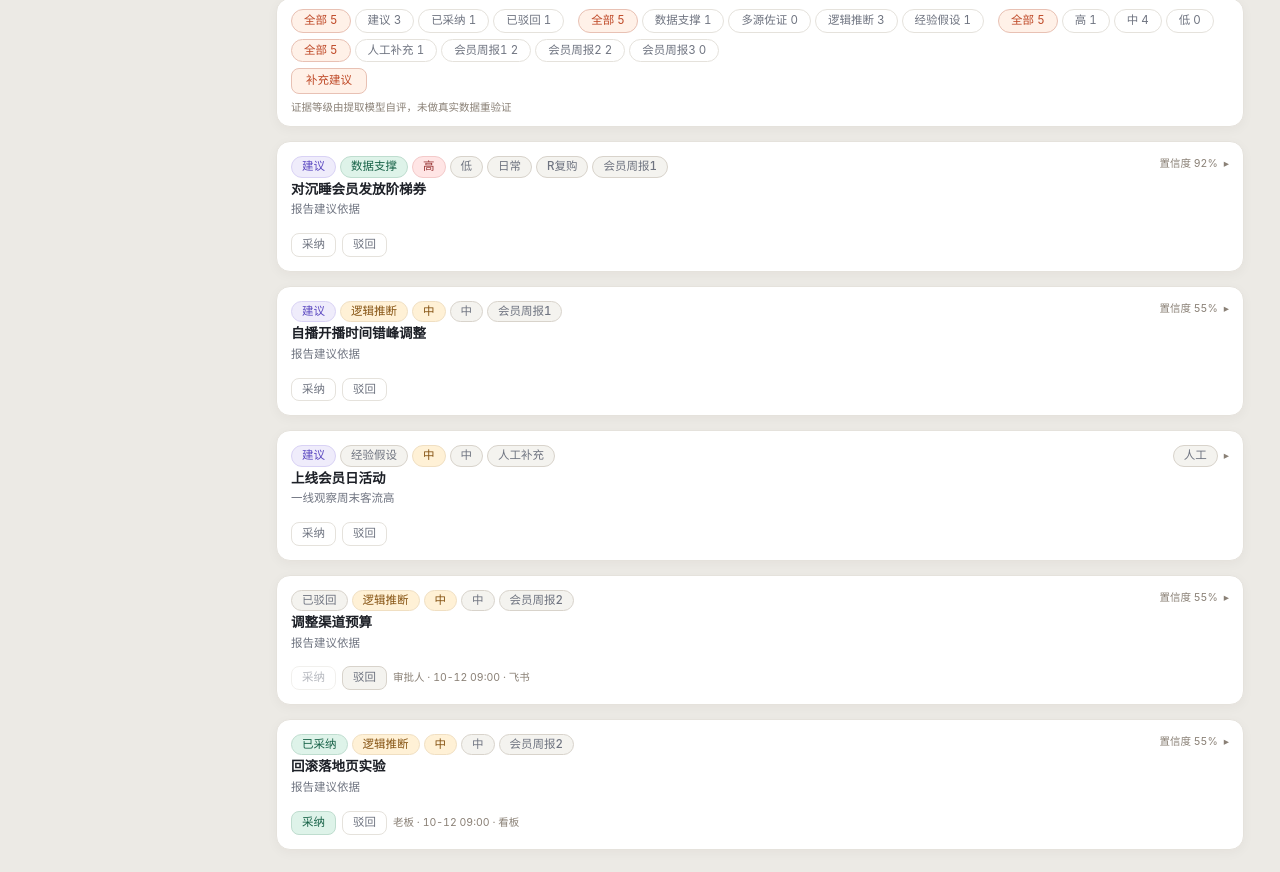
Test: 反馈互斥：已回录任务直接呈现只读块（未执行 · 评分），无提交表单
(page scrolled)
Click the button "已采纳 逻辑推断 中 中 会员周报2 回滚落地页实验 报告建议依据 置信度 55% ▸".
click(319, 745)  # box [277,720,1243,811]
(page scrolled)
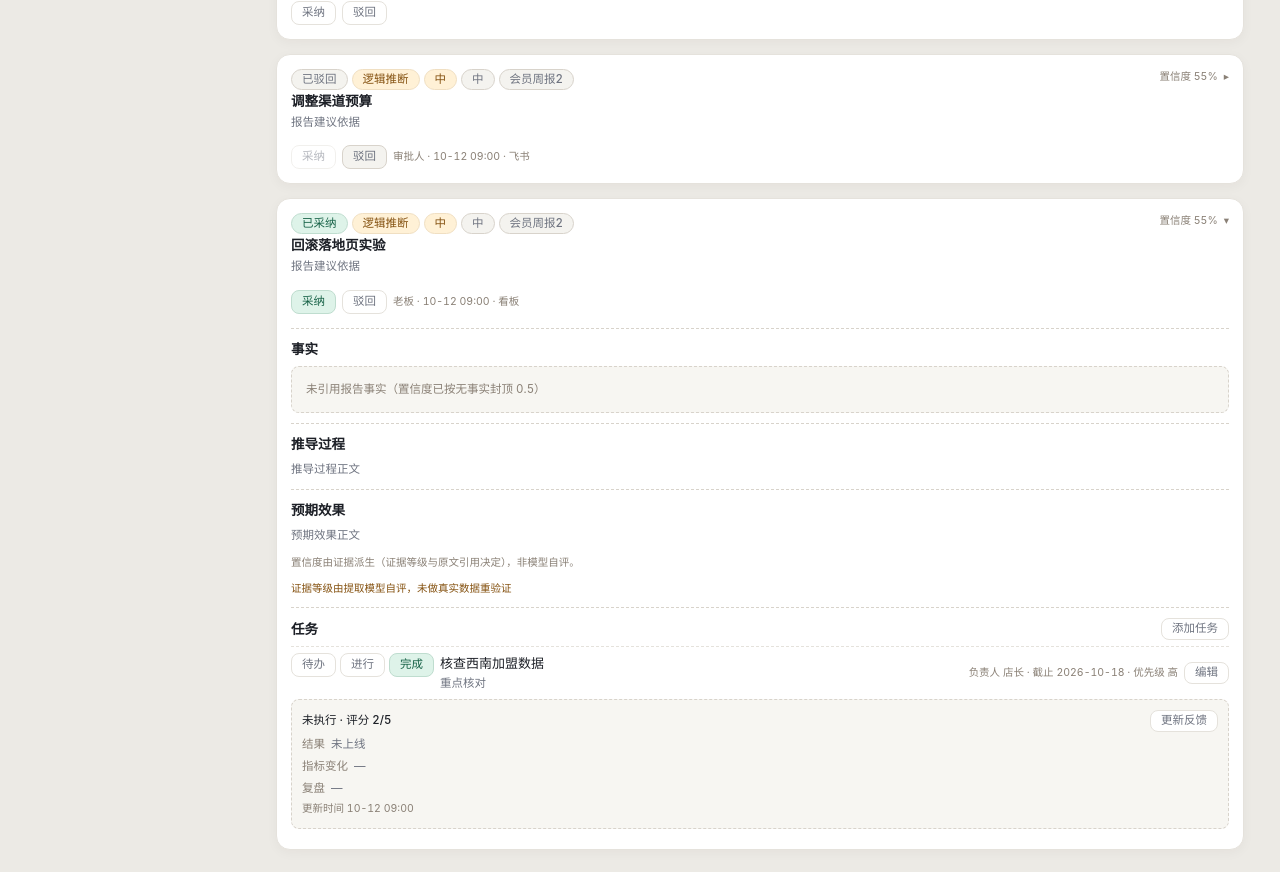
expect the text "未执行 · 评分 2/5" is shown: met, box [302,710,1218,732]
expect the text "更新时间 10-12 09:00" is shown: met, box [302,802,414,815]
